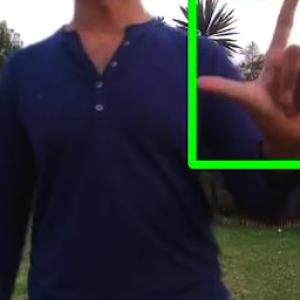land_hand: (188, 0, 299, 148)
